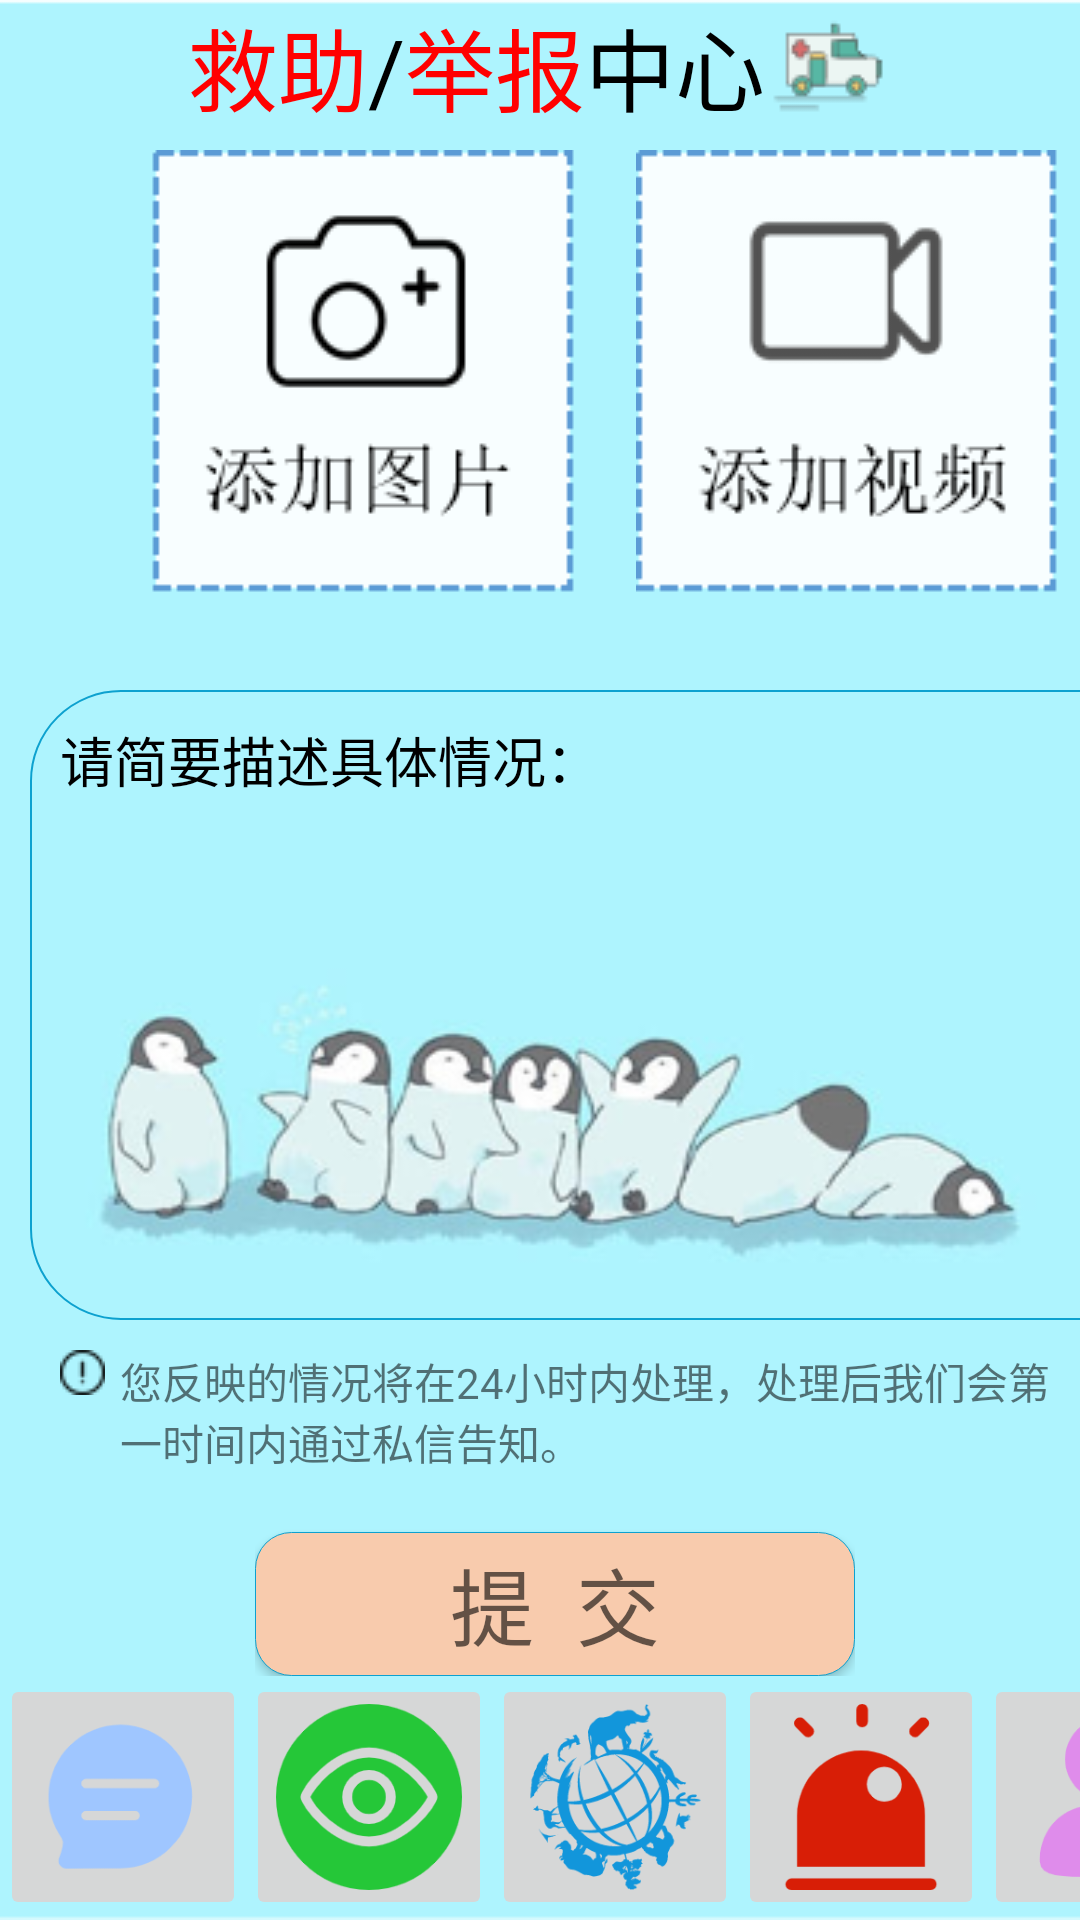

Icon bounding boxes for this 1080px x 1920px phone screenshot, format bbox=(x1, y1, x2, y2):
module animal list: bbox=(504, 1692, 726, 1902)
module latest message: bbox=(12, 1692, 234, 1902)
module report: bbox=(750, 1692, 972, 1902)
module special topic: bbox=(258, 1692, 480, 1902)
report hint: bbox=(60, 1350, 105, 1395)
